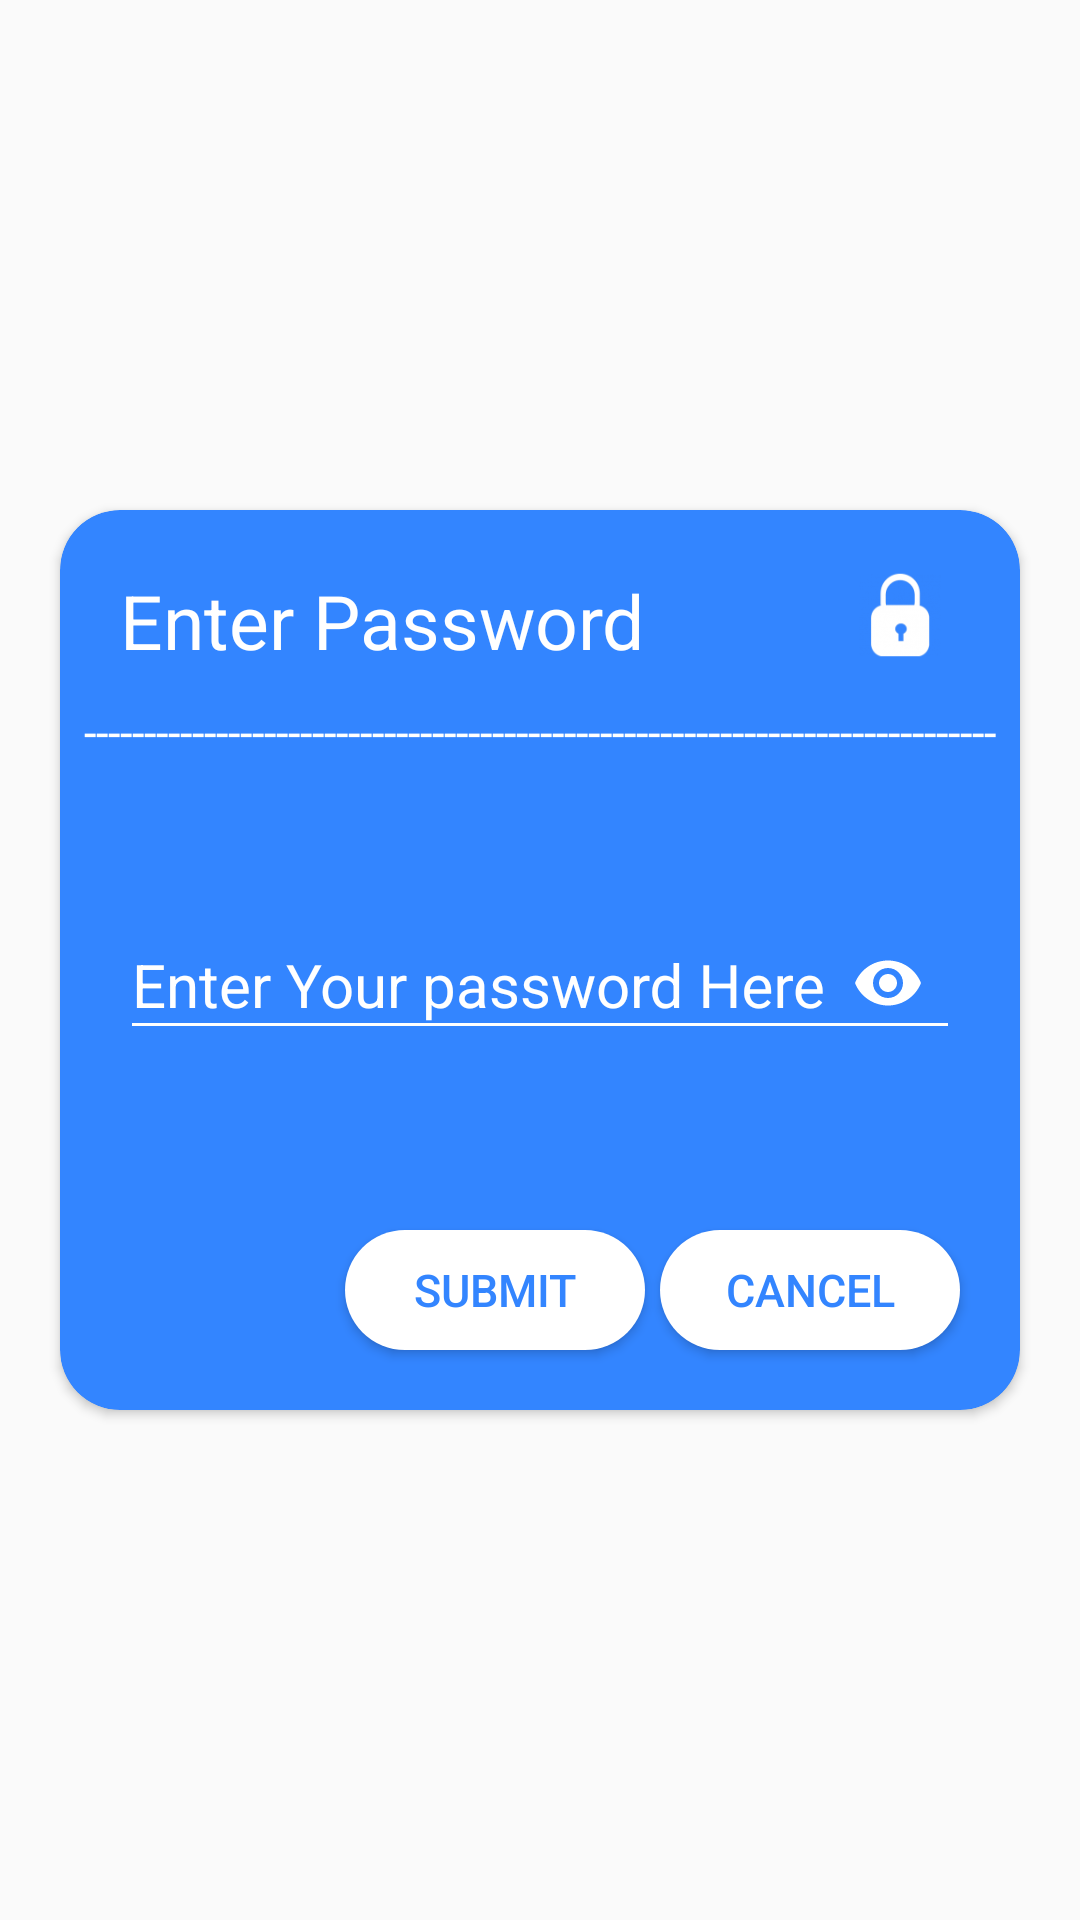

Screen size 1080 x 1920. Icon name, then its box in pixels as (x1, y1, x2, y2):
lock: (871, 573, 930, 657)
